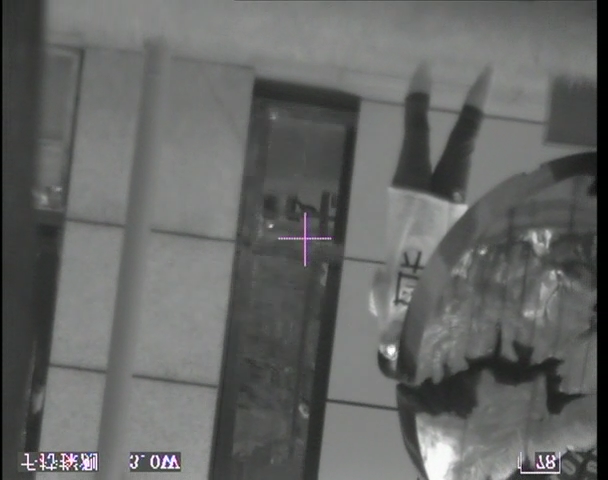my: (386, 343, 397, 356)
